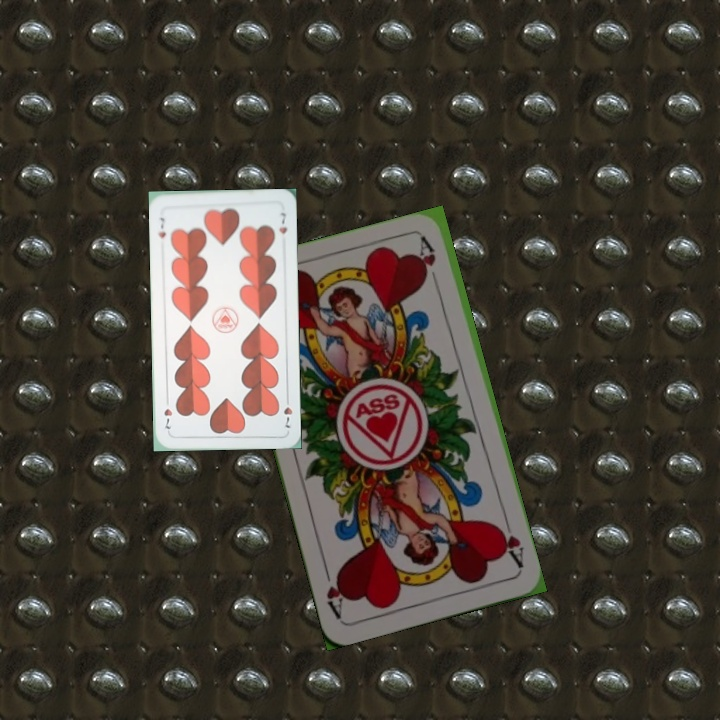H7: (280, 392, 295, 430), (153, 214, 168, 240)
HA: (493, 513, 526, 571)
